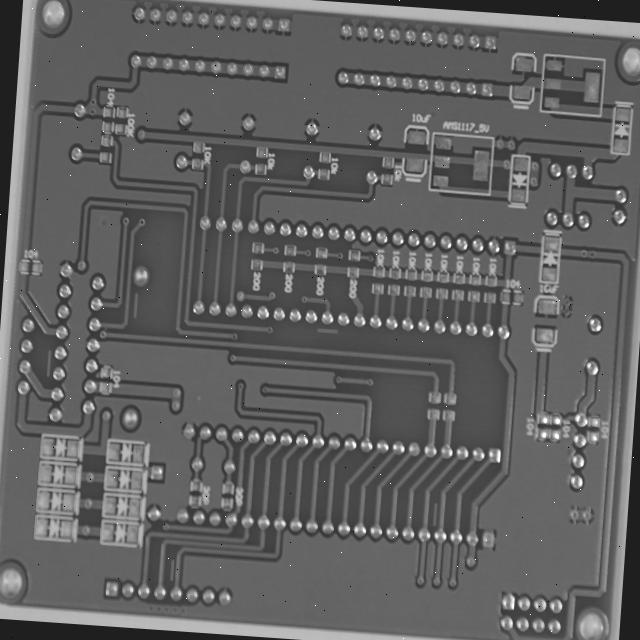spurious_copper: (305, 305, 335, 325), (24, 332, 40, 369), (114, 273, 129, 307), (421, 492, 438, 521), (153, 549, 166, 581)
